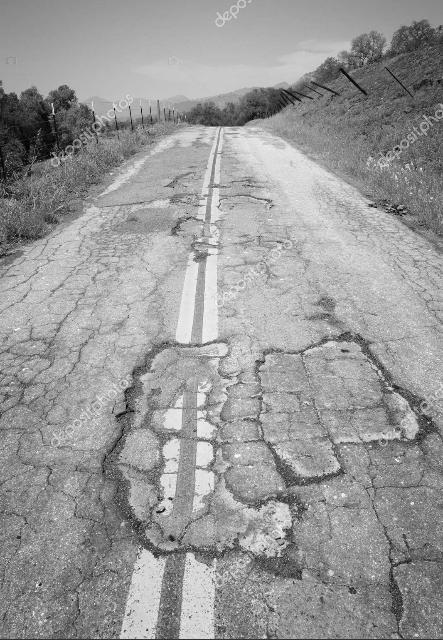Pothole: (96, 333, 443, 572), (162, 170, 268, 252)
